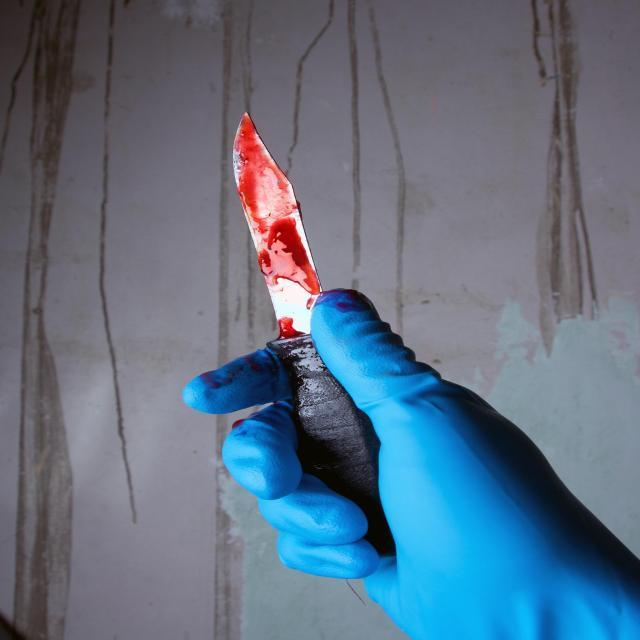flood: (236, 136, 310, 294)
